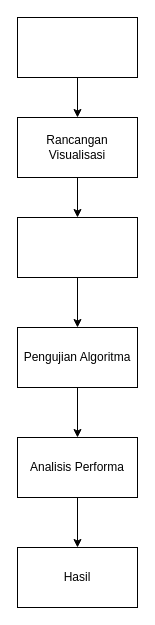
This 155x625 diagram has some shape labels left out. The shapes that lost their labels are listed below. From the top down, each one's box as (x1, y1, x2, y2) in pixels, then its label:
(16, 16, 138, 78): Pengumpulan Data
(16, 216, 138, 278): Implementasi Algoritma
